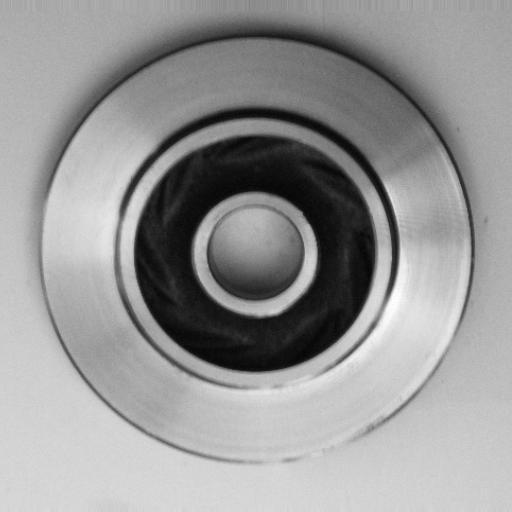scratch: (248, 428, 376, 482), (238, 371, 328, 406)
unpolished_casting: (38, 34, 477, 470)
